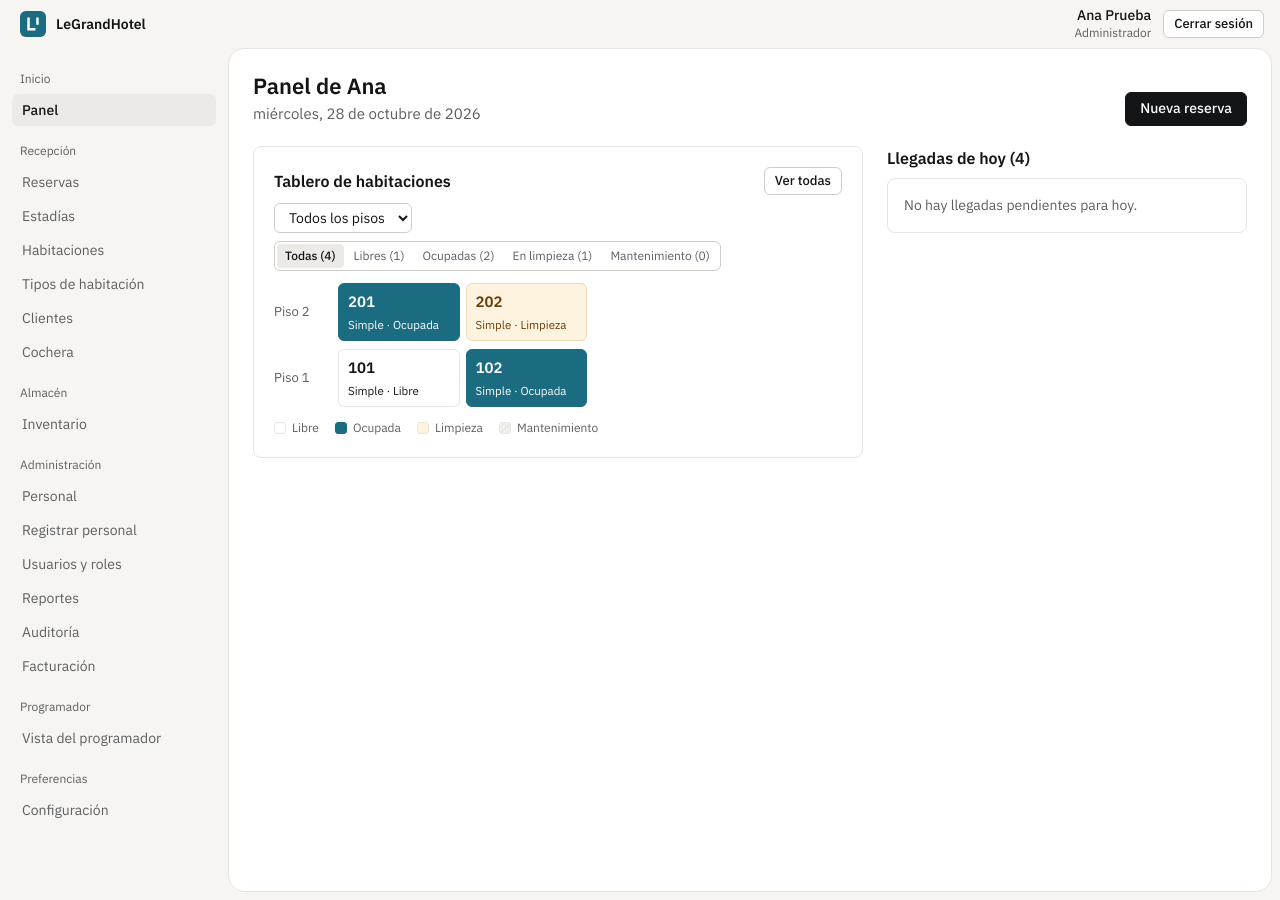
Test: tablero de habitaciones del panel › trae todas las páginas y filtra por piso y por estado
Expected: the button with aria-label "Habitación 202" is shown, [466,283,587,341]
Expected: the number of buttons named "Habitación" is 4, [338,283,460,341]; [466,283,587,341]; [338,349,460,407]; [466,349,587,407]
Click the radio button labelled "Ocupadas (2)" at (458, 255), box [422,248,494,263]
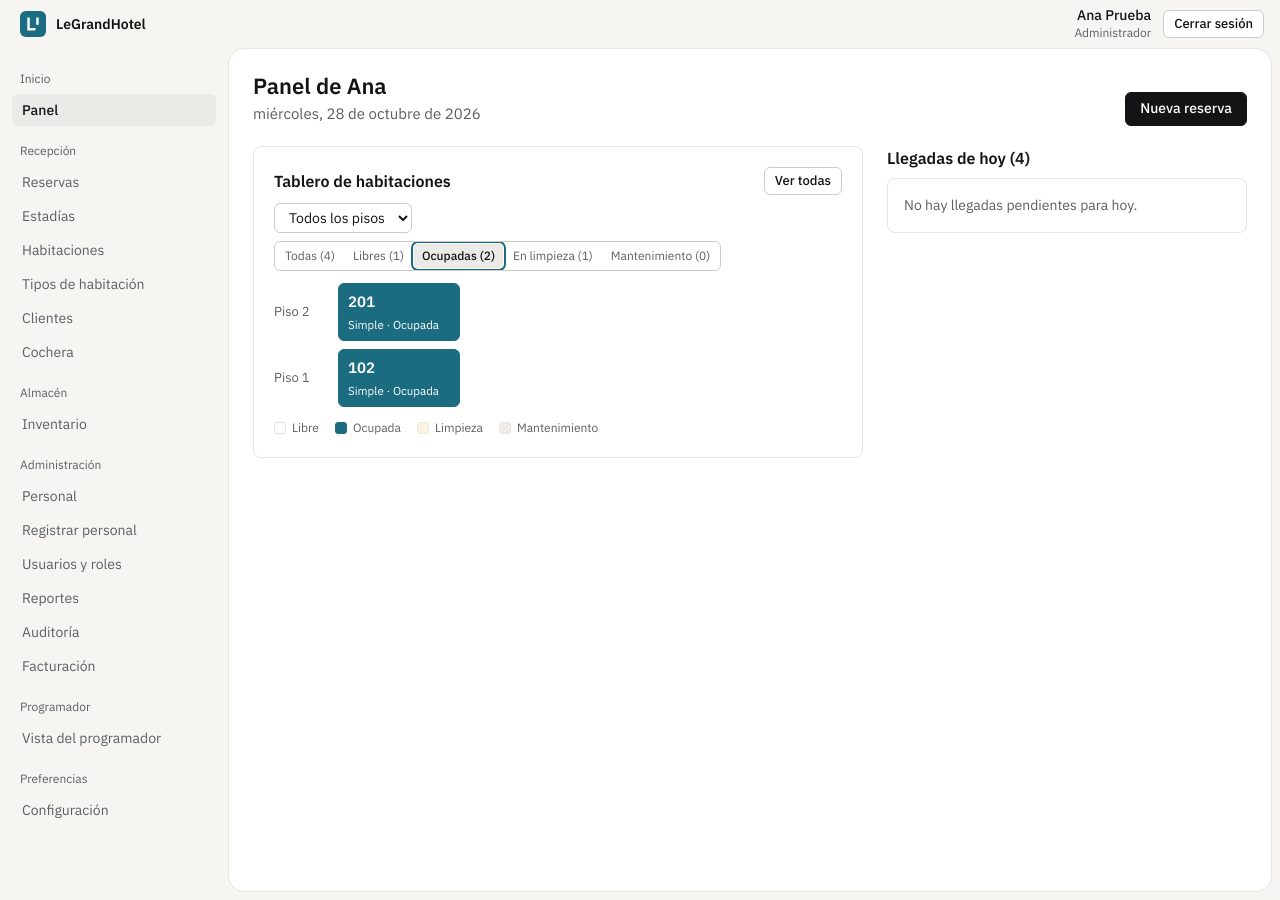
Select "Piso 2" in the dropdown named "Filtrar por piso" at (343, 218), box [274,203,412,233]
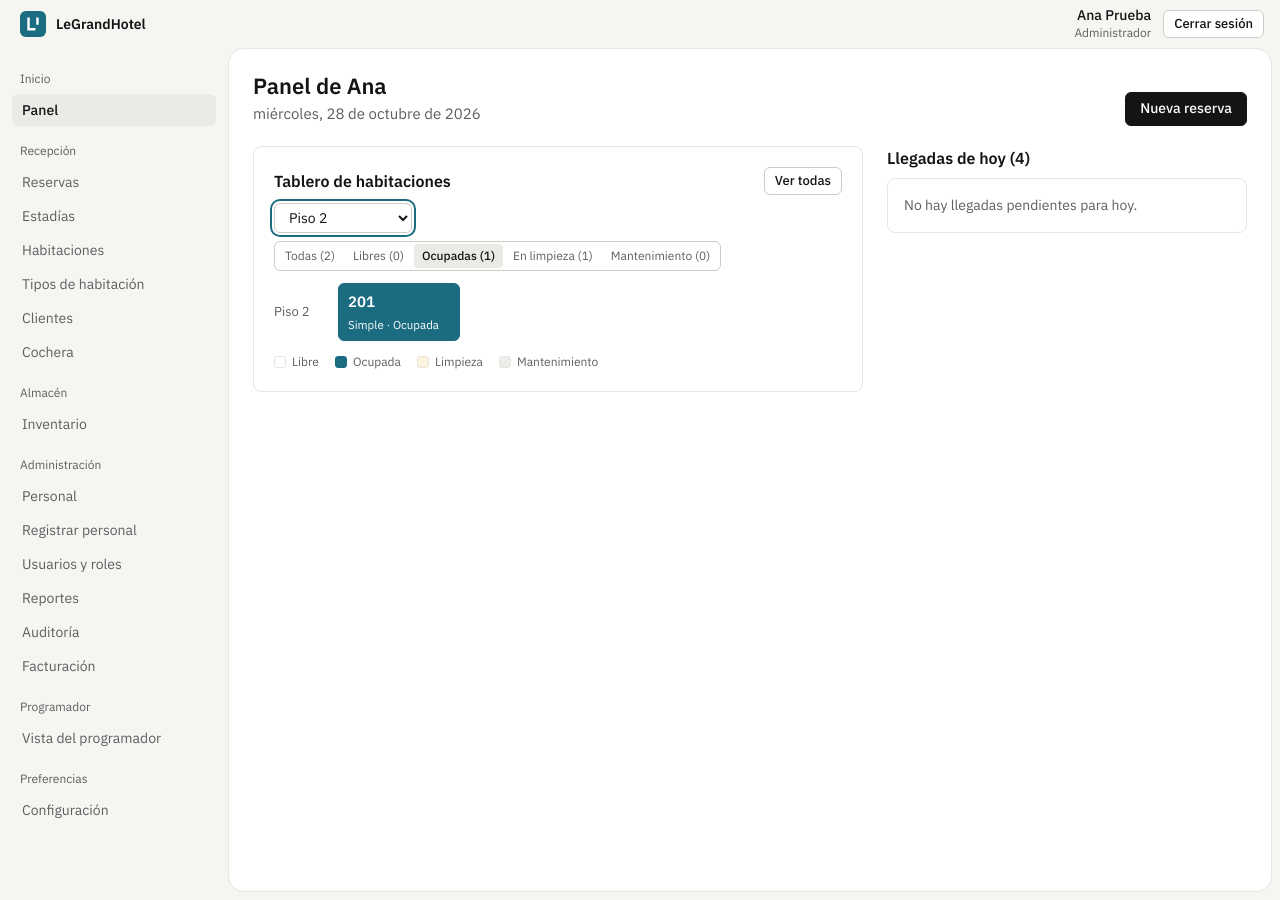
Expected: the radio button labelled "Todas (2)" is shown, [285,248,335,263]
Result: the number of buttons named "Habitación" is 1 at [338,283,460,341]
Click the radio button labelled "Mantenimiento (0)" at (661, 256), box [603,244,718,268]
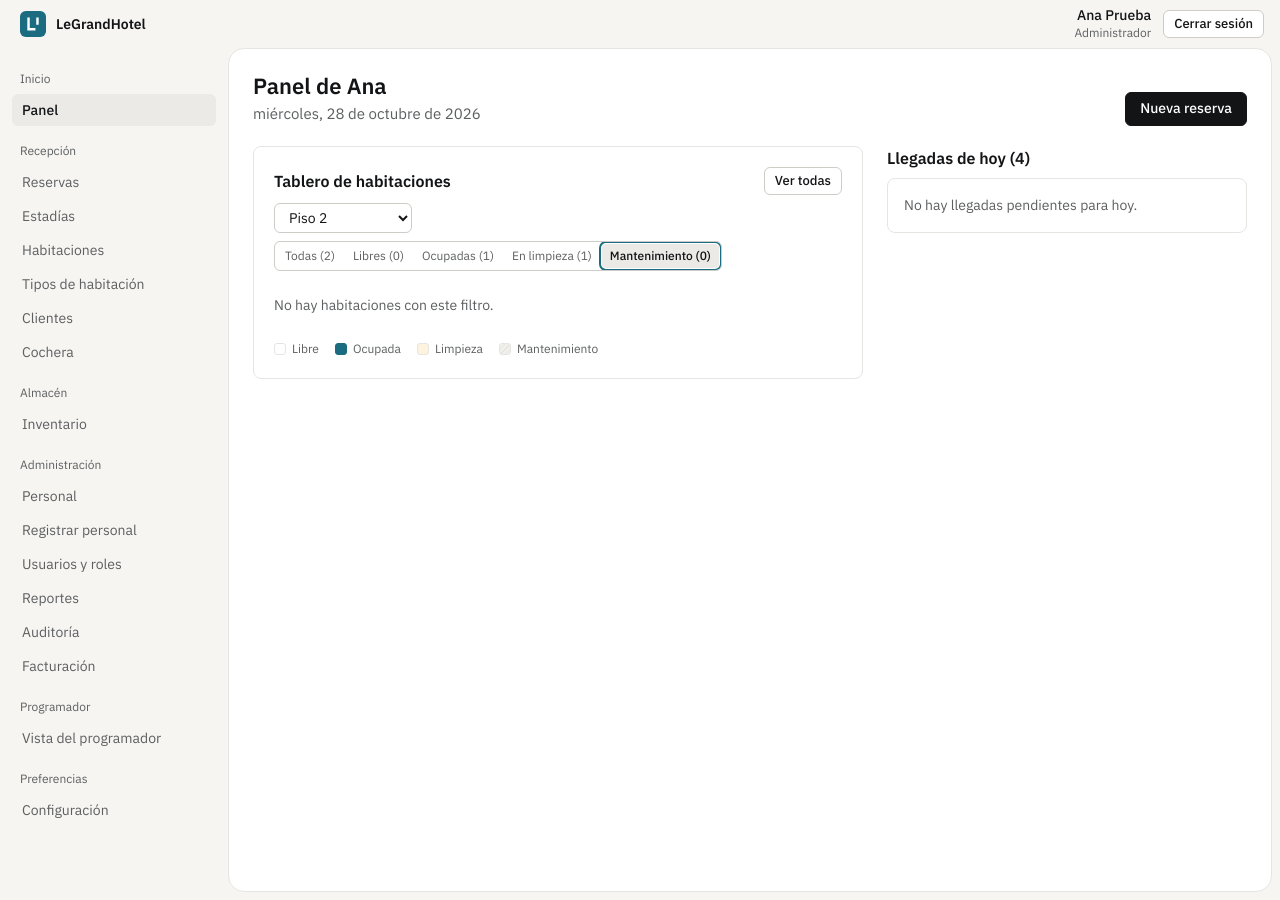
Result: the text "No hay habitaciones con este filtro." is shown at [274,296,494,314]
